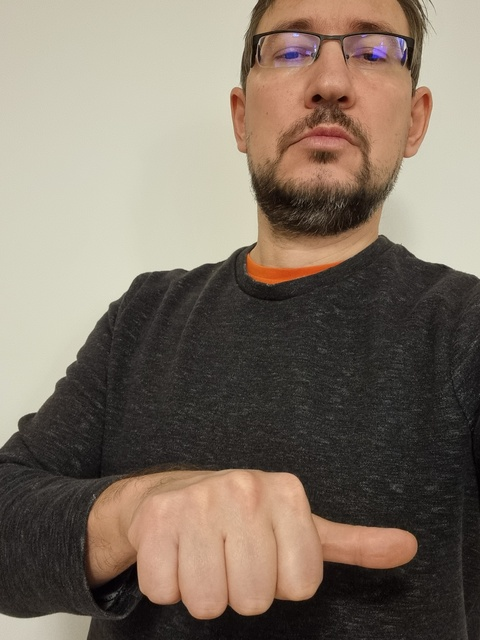GestBack: (138, 468, 417, 619)
